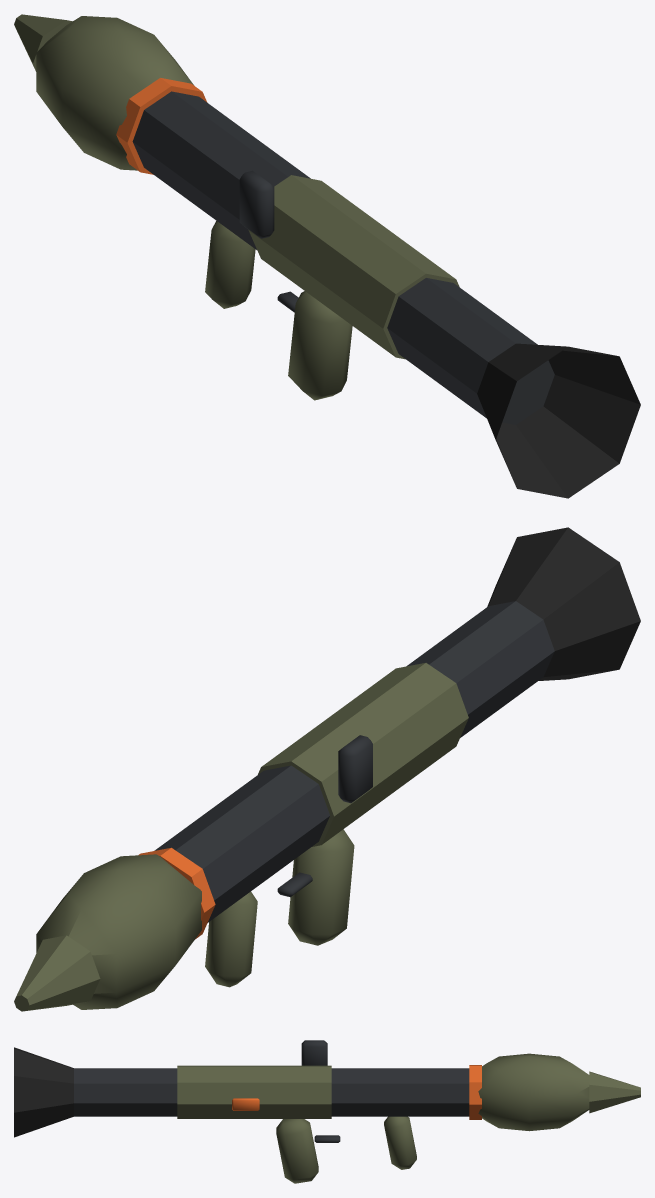
Rendered from weapon_rpg.glb.
The picture shows the model from 3 angles, top to bottom: view 1: azimuth 30°, elevation 25°; view 2: azimuth 150°, elevation 25°; view 3: azimuth 270°, elevation 25°; orthographic projection. The views are drawn at different scales.
Parts seen in each view (by area): view 1: weapon_rpg; view 2: weapon_rpg; view 3: weapon_rpg.
Boxes of the visible parts, x1,y1,x2,y2 form: weapon_rpg: (14,14,640,498); weapon_rpg: (14,527,640,1011); weapon_rpg: (14,1040,640,1183).
Size of the model in its own units: 0.14 by 0.2127 by 0.9125.
Materials: 1 (1 with a texture image).
